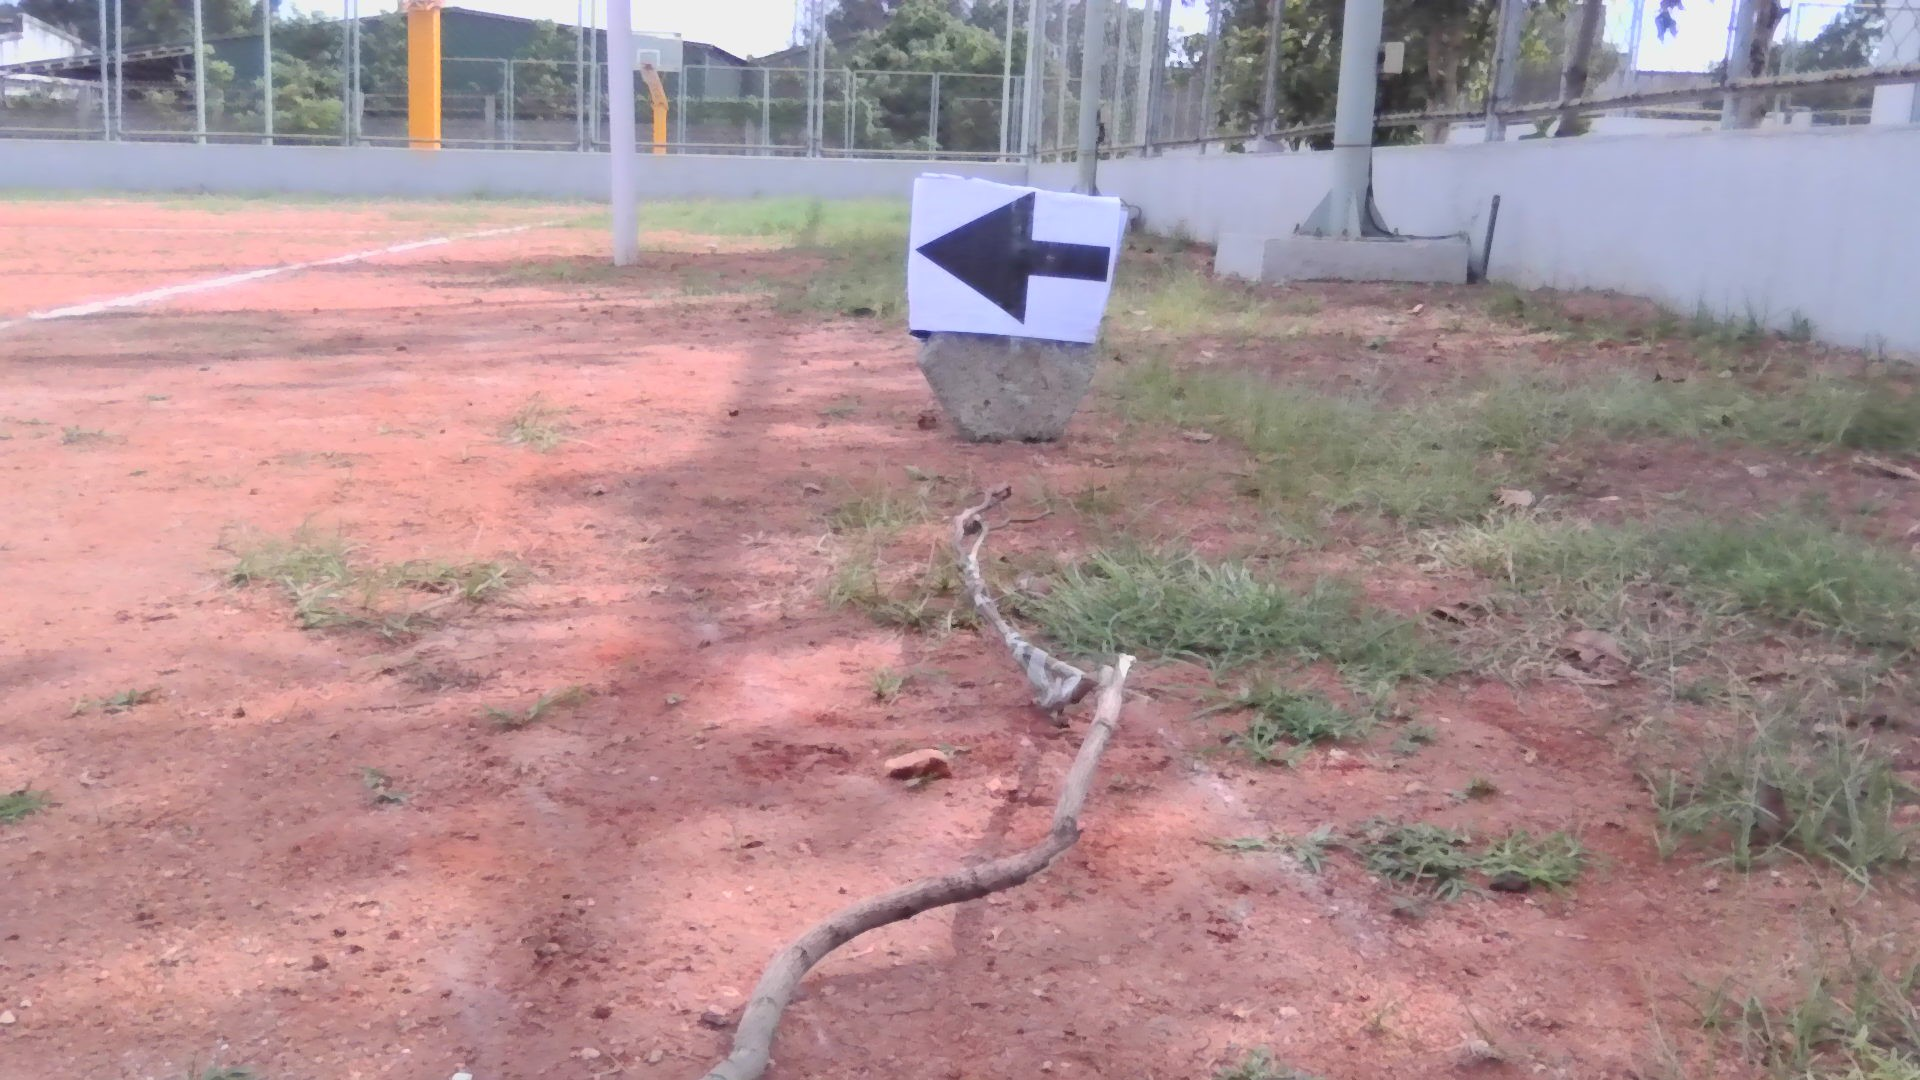leftDir: (919, 171, 1120, 345)
